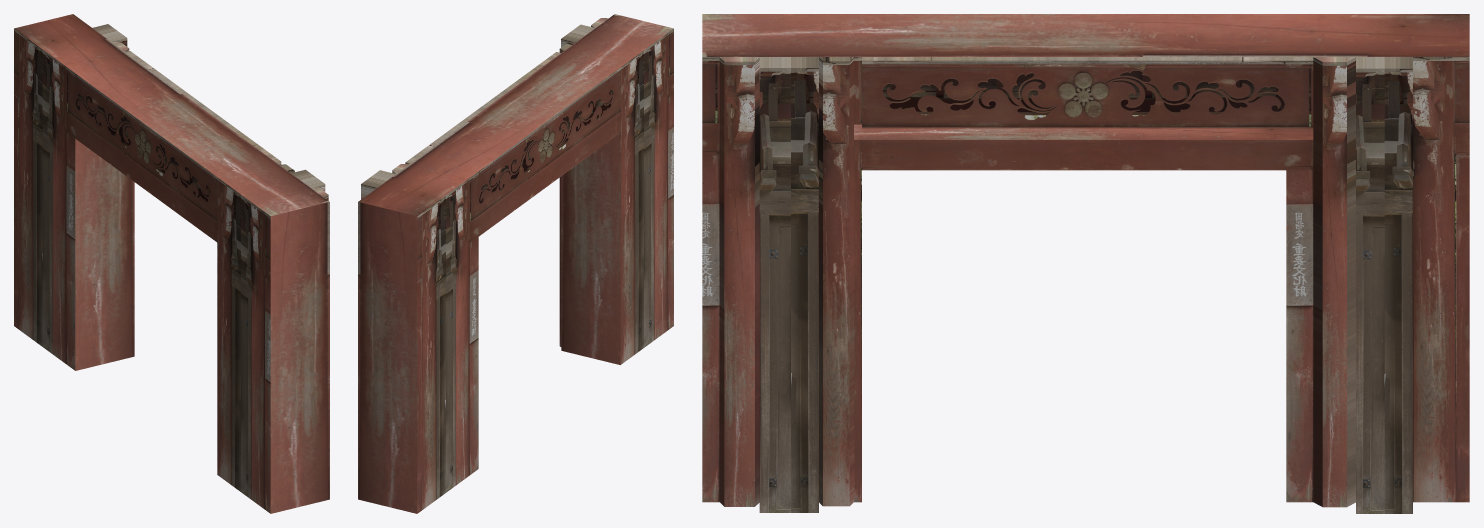
File: SM_Scene_A_Blockout06.fbx
The picture shows the model from 3 angles, left to right: view 1: azimuth 30°, elevation 25°; view 2: azimuth 150°, elevation 25°; view 3: azimuth 270°, elevation 25°; orthographic projection. The views are drawn at different scales.
Parts seen in each view (by area): view 1: SM_Scene_A_Blockout06; view 2: SM_Scene_A_Blockout06; view 3: SM_Scene_A_Blockout06.
Boxes of the visible parts, bbox=[...] form: SM_Scene_A_Blockout06: bbox=[14, 14, 329, 513]; SM_Scene_A_Blockout06: bbox=[358, 14, 673, 513]; SM_Scene_A_Blockout06: bbox=[702, 14, 1469, 513].
Size of the model in its own units: 155 by 549 by 858.
